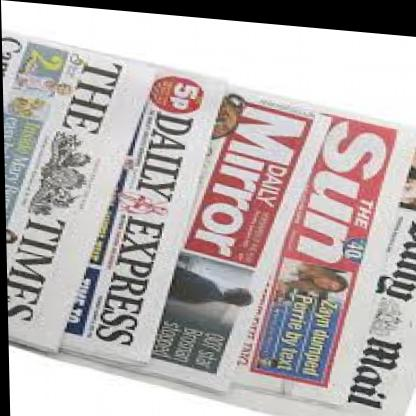Paper: (1, 40, 416, 416)
